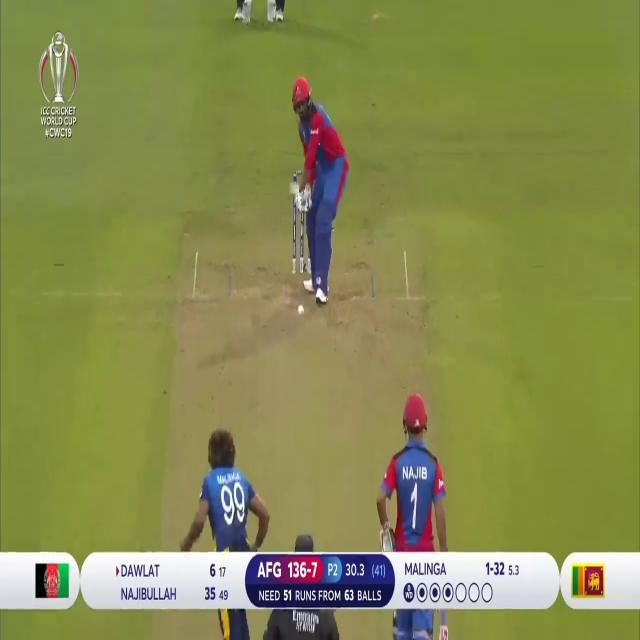ball: (296, 302, 306, 319)
